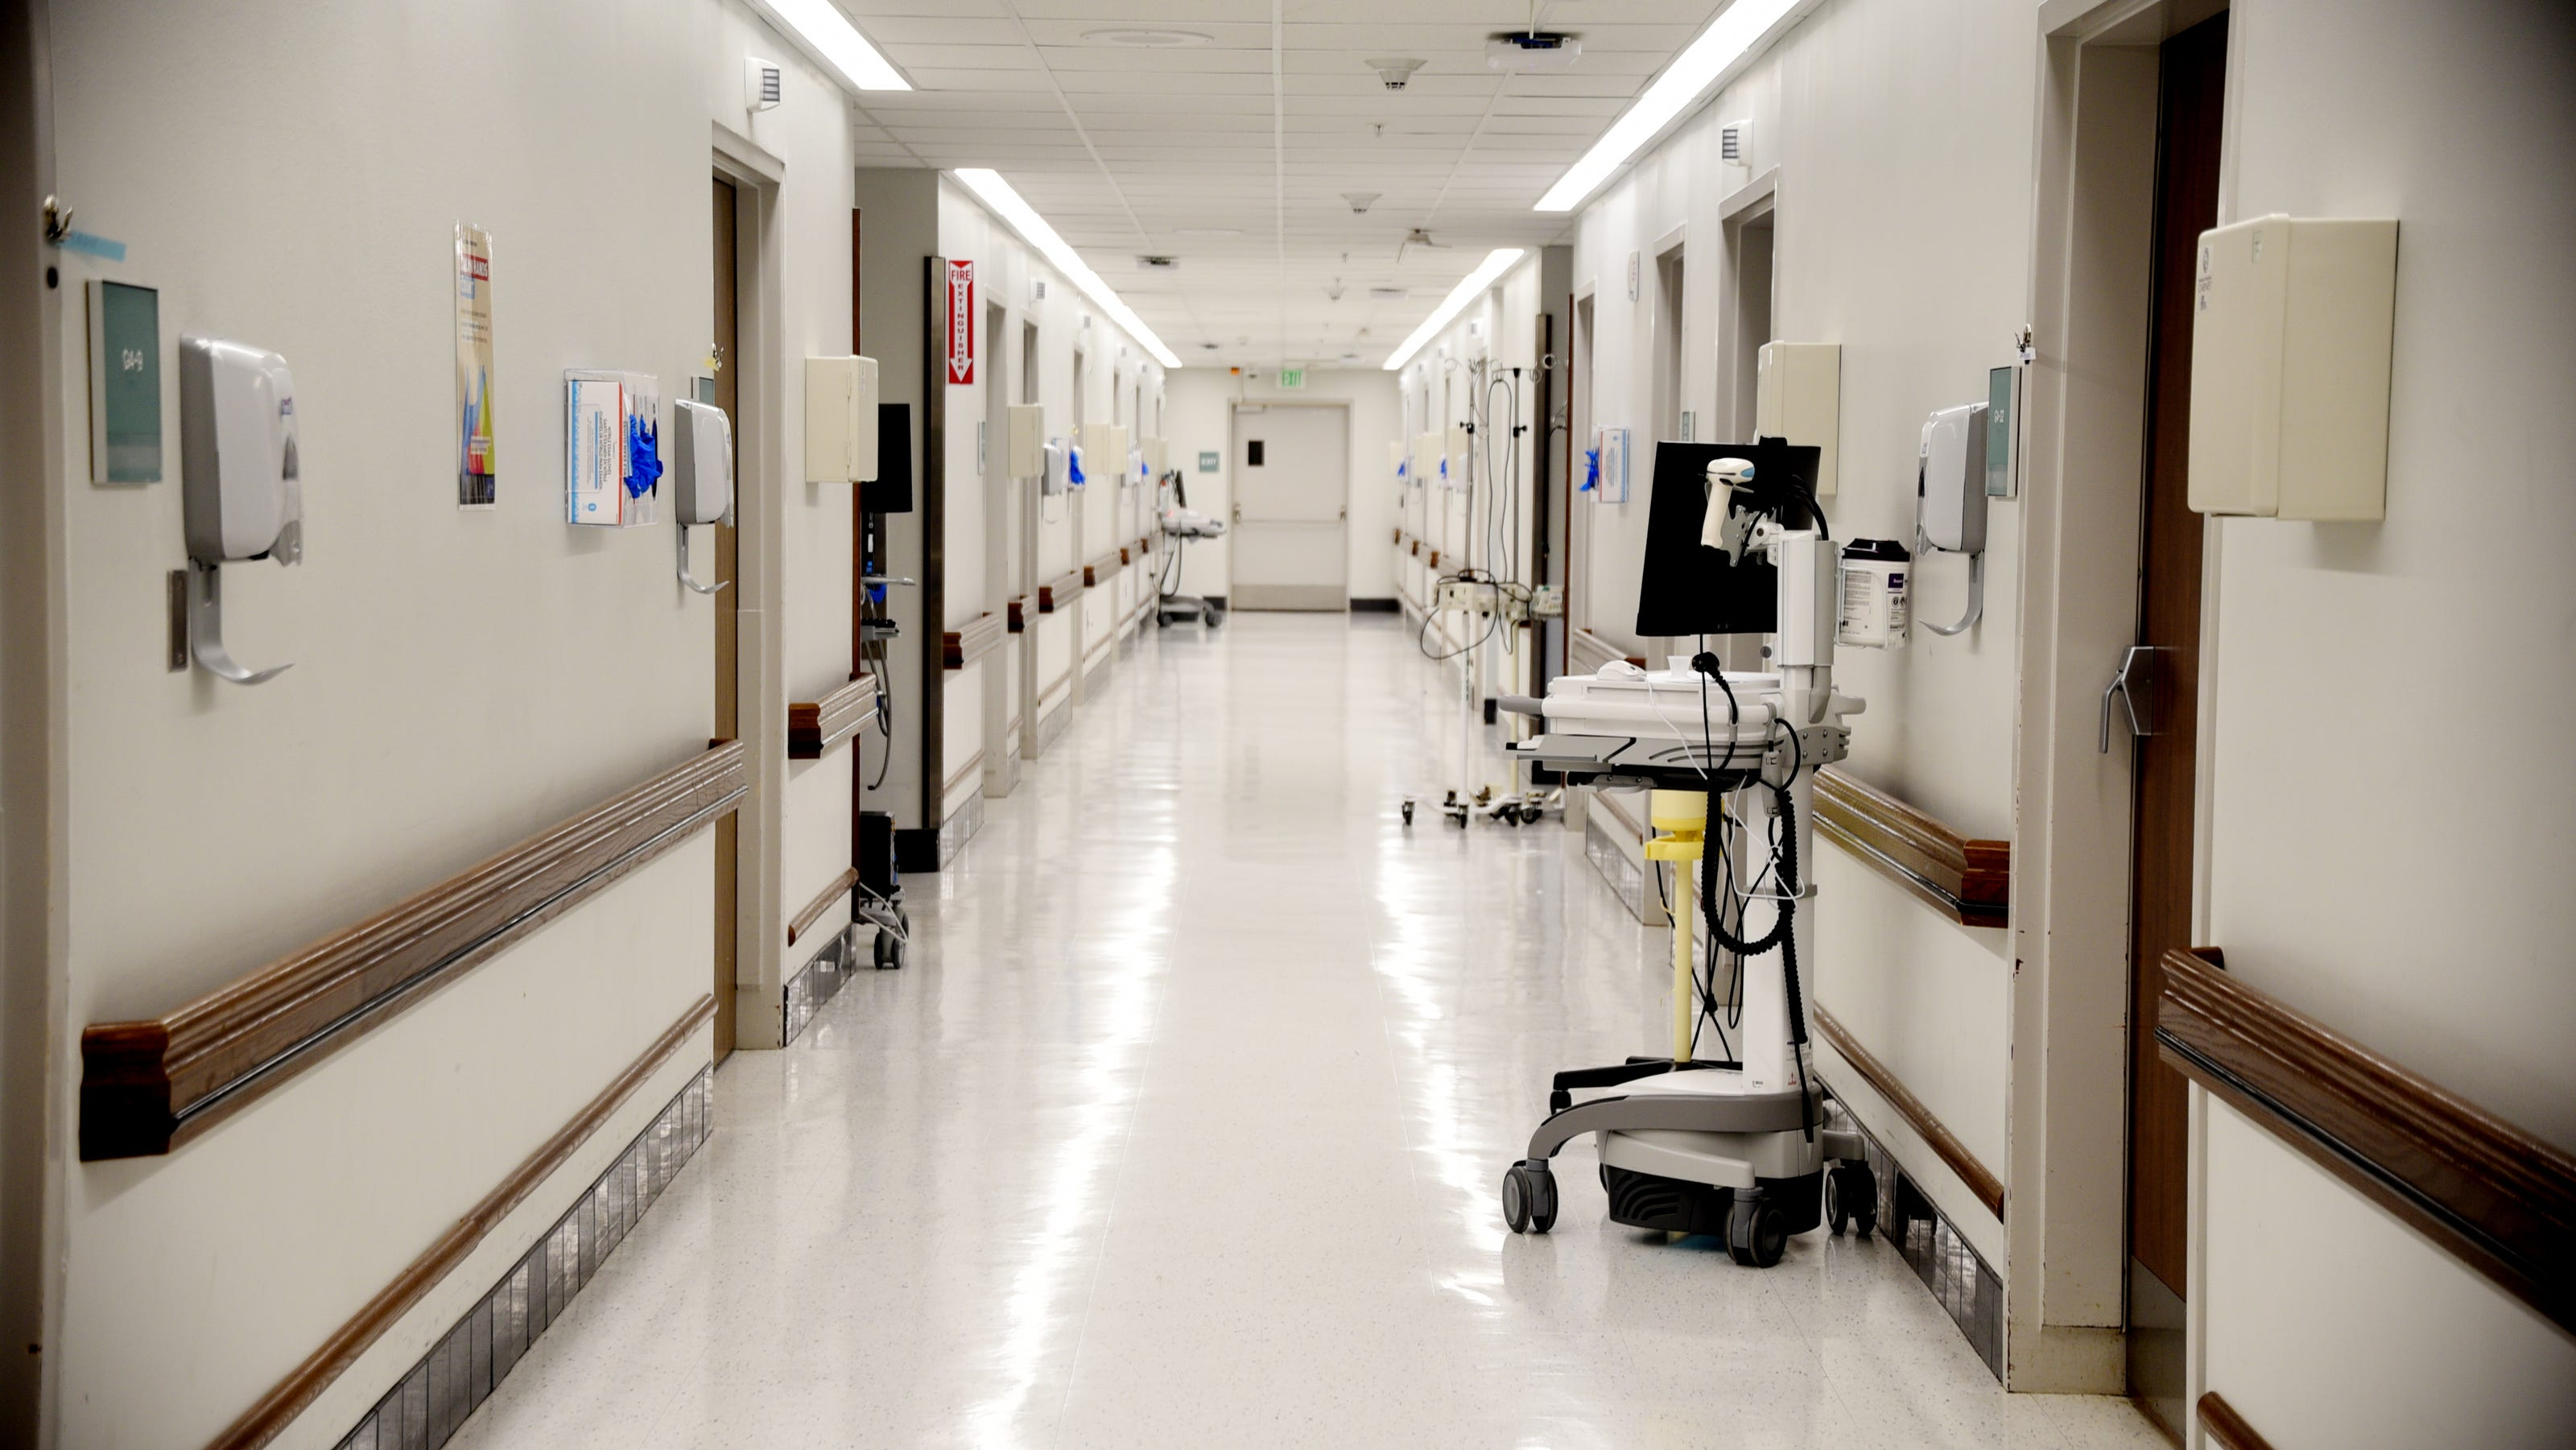computer: (1642, 430, 1798, 623)
dispenser: (2189, 211, 2408, 515), (173, 336, 306, 597), (1743, 335, 1844, 496), (566, 370, 655, 531), (796, 351, 883, 480), (1914, 405, 1983, 565), (1833, 535, 1911, 657), (679, 398, 740, 535), (1587, 425, 1631, 505), (1010, 405, 1049, 478), (1092, 421, 1131, 476), (1042, 444, 1063, 496)
door_handle: (2100, 646, 2153, 754)
hallway_assist_bar: (111, 737, 738, 1149), (2164, 942, 2576, 1326), (1803, 751, 2028, 919), (1562, 614, 1651, 692), (800, 682, 881, 765), (947, 605, 996, 673), (1003, 586, 1051, 652), (1417, 542, 1467, 588), (1044, 568, 1088, 614), (1088, 552, 1122, 588), (1387, 529, 1417, 559)
iv_pole: (1442, 358, 1507, 786), (1488, 368, 1543, 800)
push_latch: (1237, 517, 1343, 528)
ventilator: (851, 402, 924, 970)
